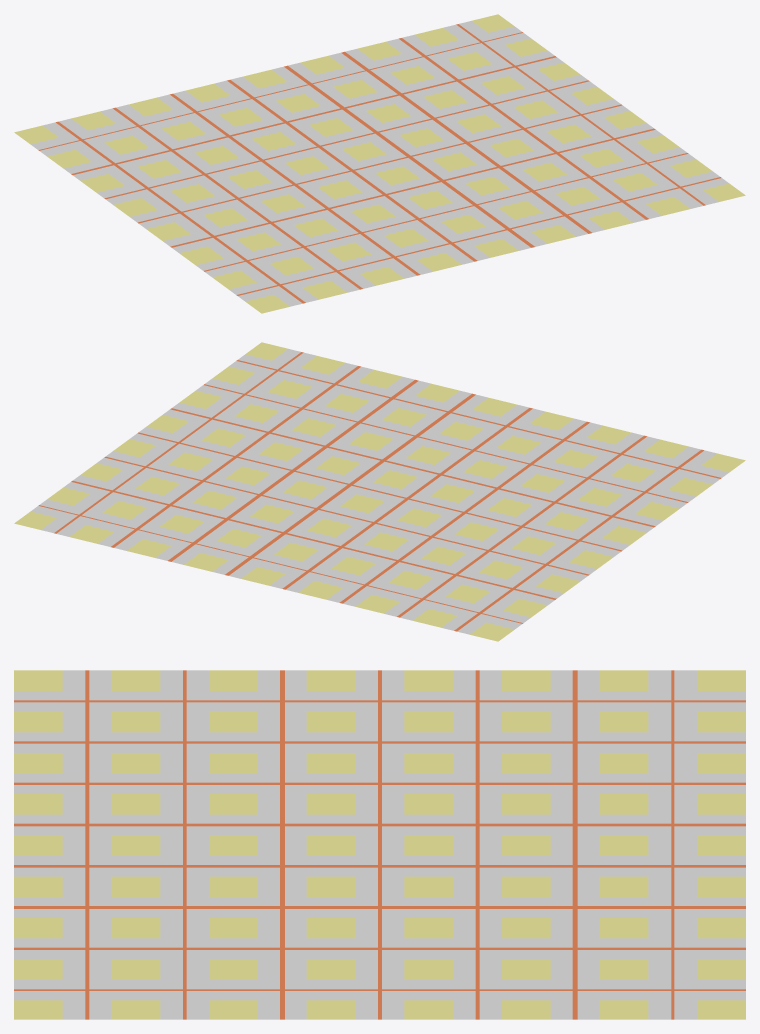
3 renders of one model, top to bottom at view 1: azimuth 30°, elevation 25°; view 2: azimuth 150°, elevation 25°; view 3: azimuth 270°, elevation 25°, orthographic. The views are drawn at different scales.
Parts seen in each view (by area): view 1: Plane; view 2: Plane; view 3: Plane.
Part boxes in pixels (bbox=[...]): Plane: bbox=[14, 14, 745, 313]; Plane: bbox=[14, 342, 745, 641]; Plane: bbox=[14, 670, 745, 1019].
Bounding box in the file's own units: 876 × 0.000126 × 776.
